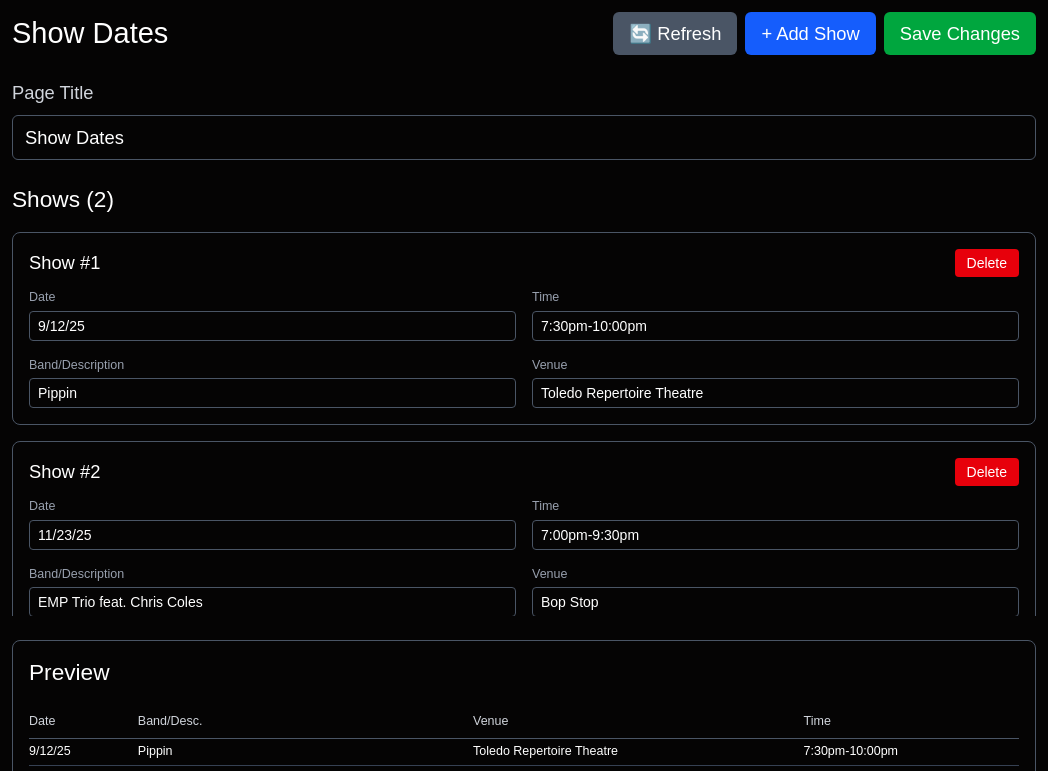
Test case: Shows Admin Editor › Show Management › allows deleting a show
The width and height of the screenshot is (1048, 771).
Expected: the heading "Shows (2)" is shown, [12, 186, 114, 212]
Click the 1st button "Delete" at (987, 263), box [954, 249, 1019, 277]
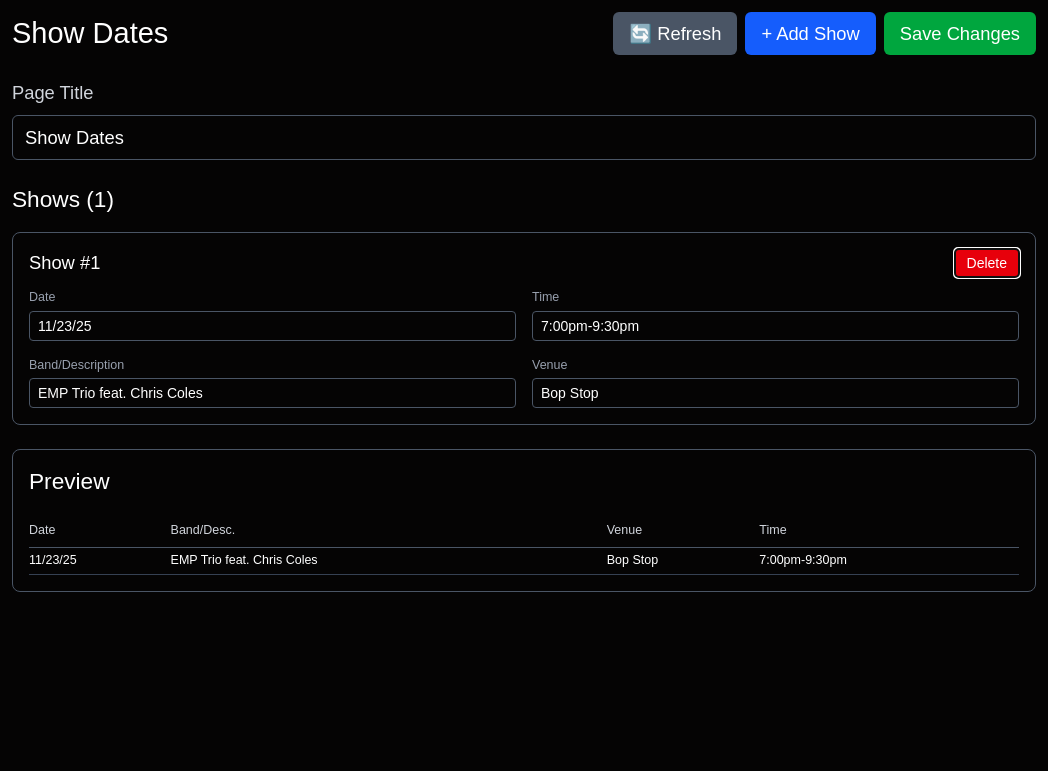
Now the heading "Shows (1)" is shown, box [12, 186, 114, 212]
